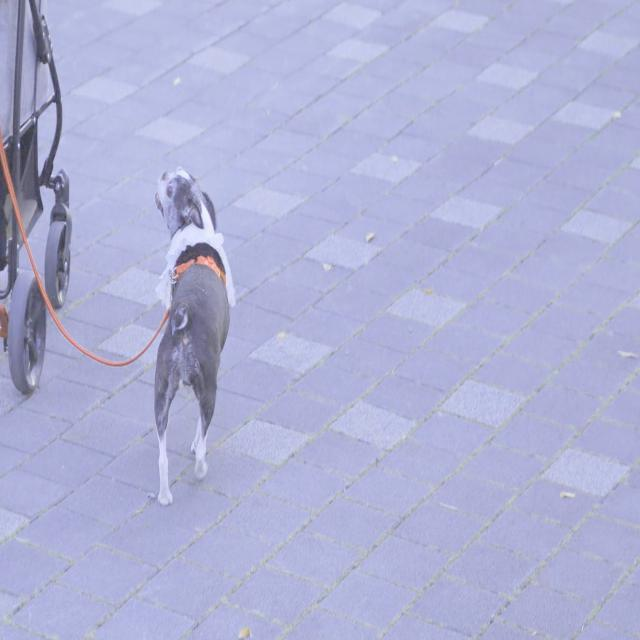Dog: (153, 165, 237, 508)
